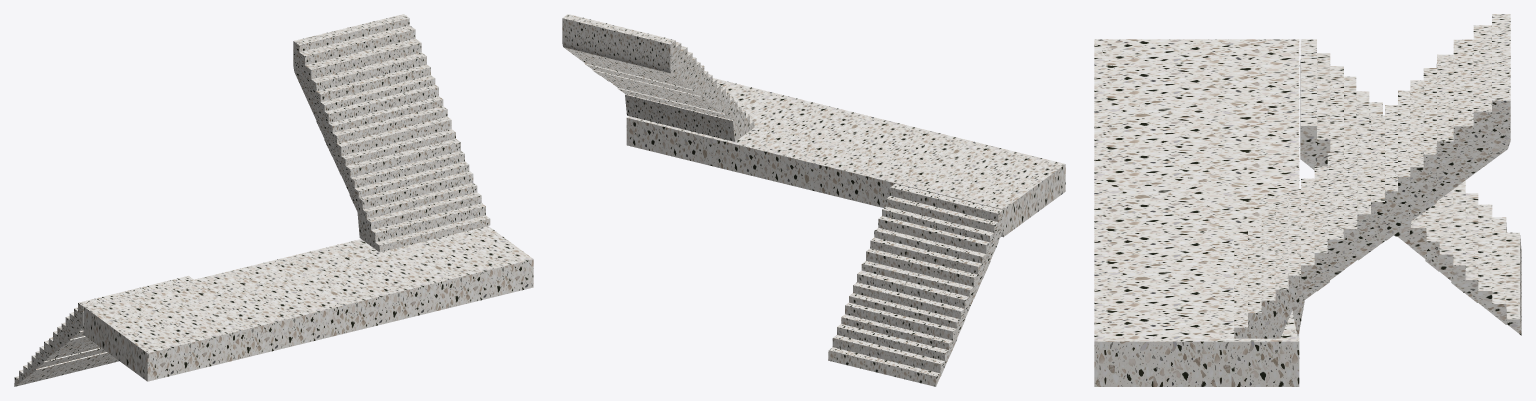
Rendered from stairs.fbx.
3 renders of one model, left to right at view 1: azimuth 30°, elevation 25°; view 2: azimuth 150°, elevation 25°; view 3: azimuth 270°, elevation 25°, orthographic. The views are drawn at different scales.
Visible parts, largest first — view 1: middle, stair_l, stair_r; view 2: middle, stair_r, stair_l; view 3: middle, stair_l, stair_r.
Part boxes in pixels (<box>): middle: <box>83,226,533,381</box>; stair_l: <box>293,14,490,252</box>; stair_r: <box>14,276,193,386</box>; middle: <box>626,78,1065,237</box>; stair_r: <box>828,184,1003,386</box>; stair_l: <box>562,14,754,141</box>; middle: <box>1094,39,1299,386</box>; stair_l: <box>1234,14,1510,338</box>; stair_r: <box>1300,39,1521,335</box>.
Size of the model in its own units: 0.0775 by 0.0539 by 0.0462.
1 material, 1 textured.
